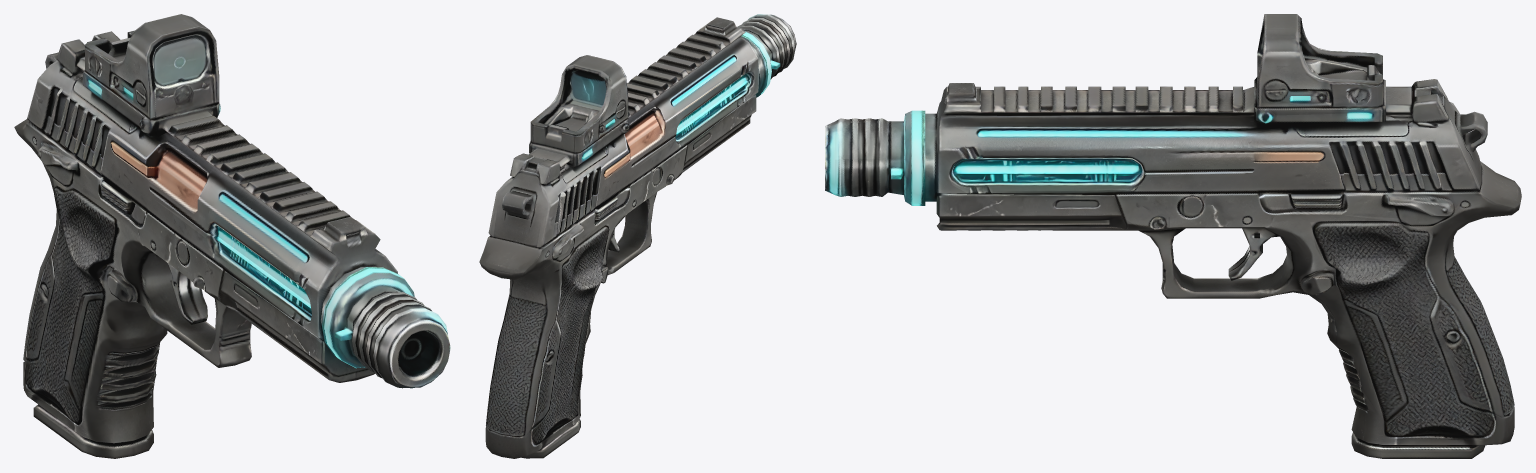
The model's file is fps_pistol_shaded.glb.
3 renders of one model, left to right at view 1: azimuth 30°, elevation 25°; view 2: azimuth 150°, elevation 25°; view 3: azimuth 270°, elevation 25°, orthographic. The views are drawn at different scales.
Parts seen in each view (by area): view 1: model; view 2: model; view 3: model.
Part boxes in pixels (bbox=[...]): model: bbox=[14, 14, 450, 458]; model: bbox=[479, 14, 796, 458]; model: bbox=[825, 14, 1521, 458].
Size of the model in its own units: 0.2928 by 1.27 by 1.9.
1 material, 1 textured.
